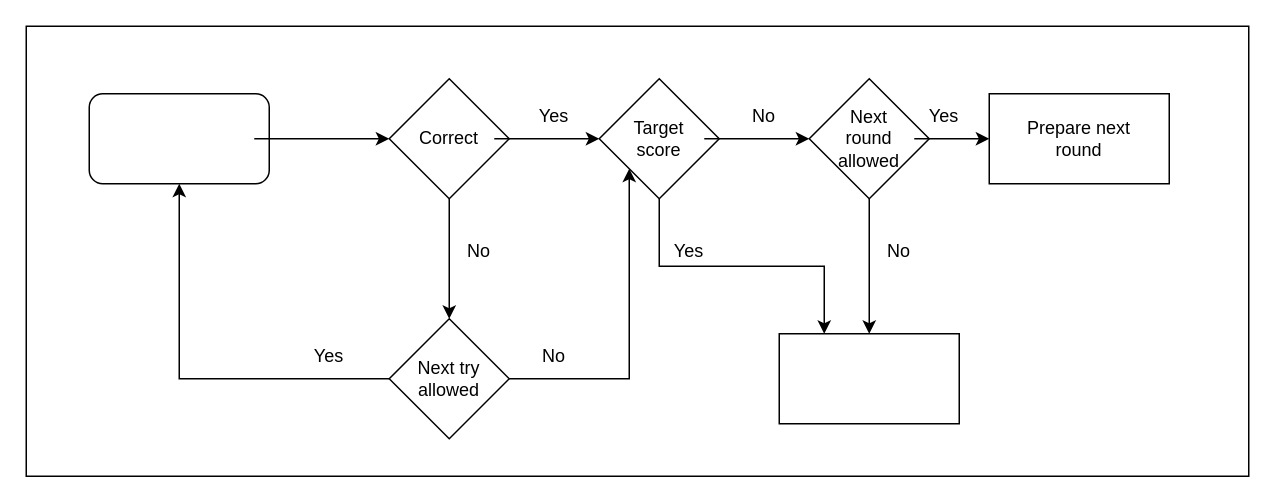
The diagram is 1275 pixels wide and 503 high, and some of its shapes have lost their labels. Here are the shapes that lost their labels. From the top down, the centre of each, then its label:
[178,138]: Num entered
[868,378]: End game
